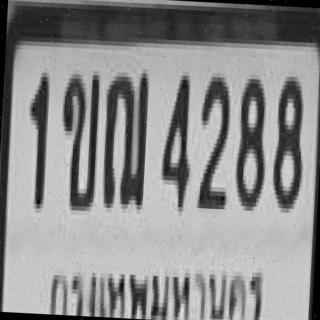A02: (56, 69, 100, 207)
A12: (100, 67, 150, 205)
N01: (24, 68, 49, 204)
N02: (196, 72, 231, 205)
N04: (159, 70, 192, 207)
N08: (270, 72, 306, 209), (233, 74, 268, 207)
P04: (46, 243, 268, 320)
